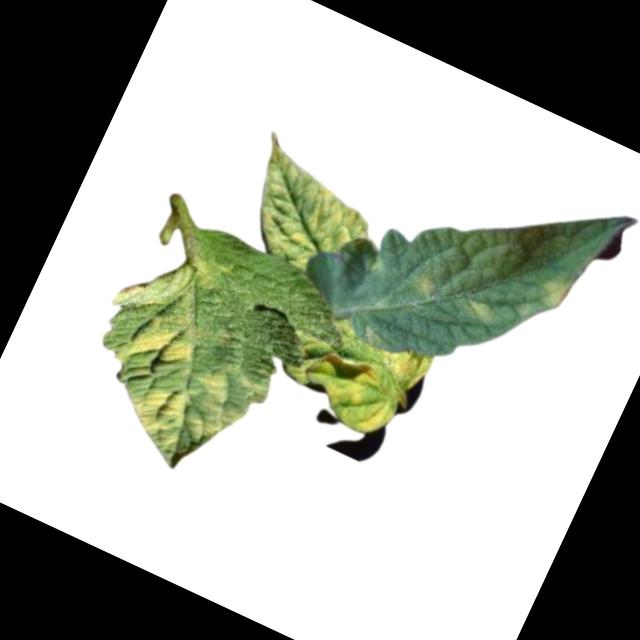Leaf_Mold: (58, 241, 307, 494), (226, 132, 392, 290), (292, 342, 410, 444), (376, 336, 439, 395), (530, 268, 578, 316), (454, 290, 505, 333), (406, 267, 445, 306)
